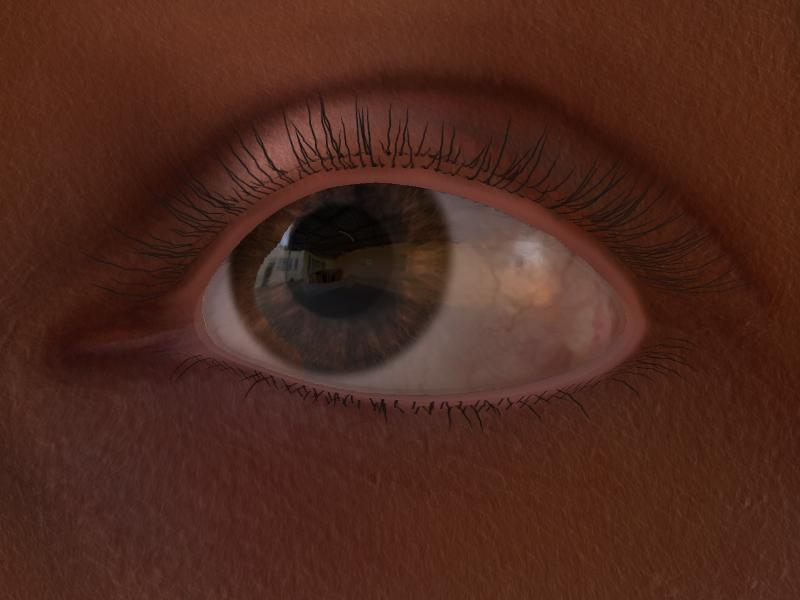eye: (226, 182, 456, 372)
